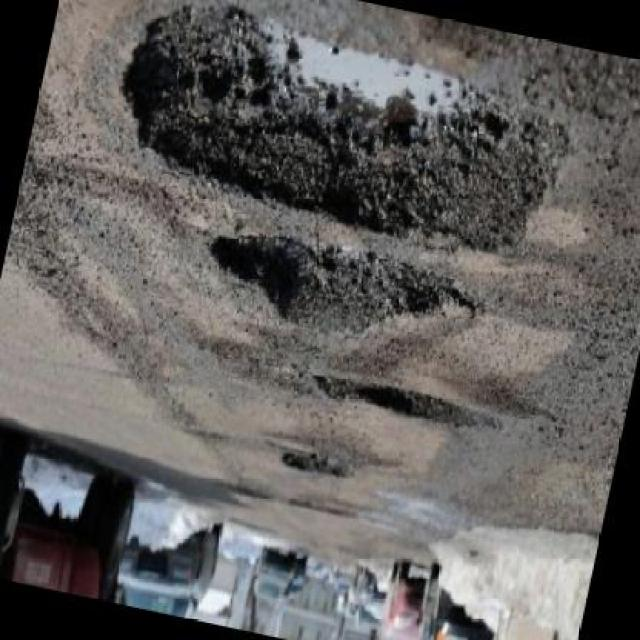pothole: (96, 1, 584, 277), (195, 216, 491, 372), (310, 371, 507, 443), (280, 448, 352, 489)
